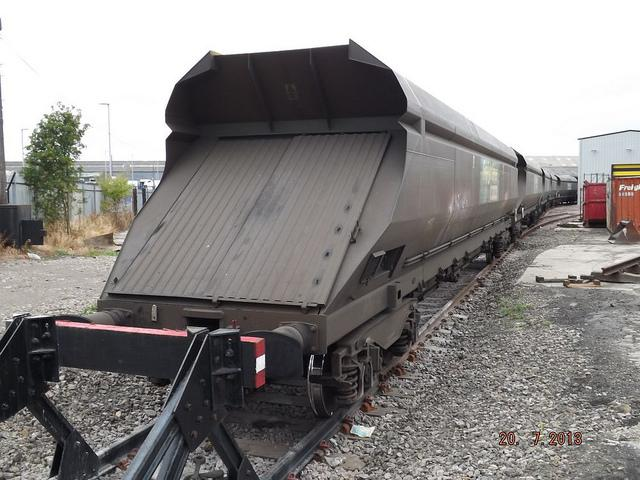Train: (0, 43, 583, 476)
